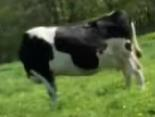cow: (20, 10, 145, 110)
